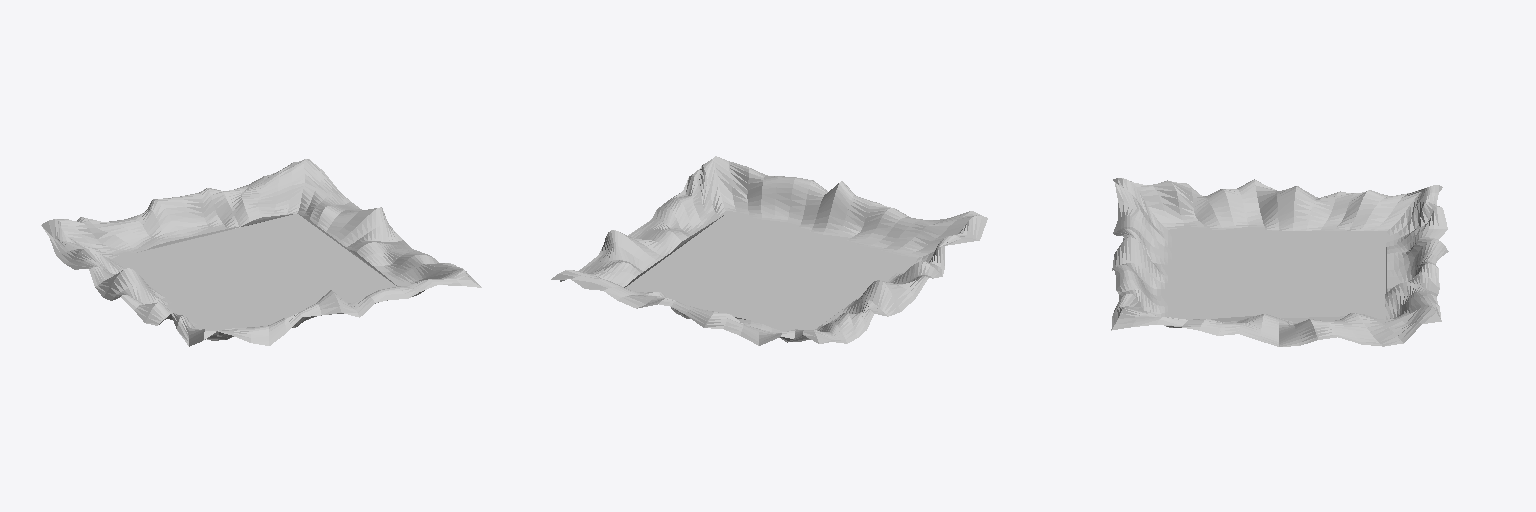
The model's file is Terrain_repeat.obj.
3 renders of one model, left to right at view 1: azimuth 30°, elevation 25°; view 2: azimuth 150°, elevation 25°; view 3: azimuth 270°, elevation 25°, orthographic.
Parts seen in each view (by area): view 1: Plane; view 2: Plane; view 3: Plane.
Boxes of the visible parts, box(x1,y1,x2,y2) form: Plane: box(41, 159, 481, 346); Plane: box(551, 156, 987, 345); Plane: box(1111, 178, 1448, 346).
Bounding box in the file's own units: 511 × 64.96 × 504.